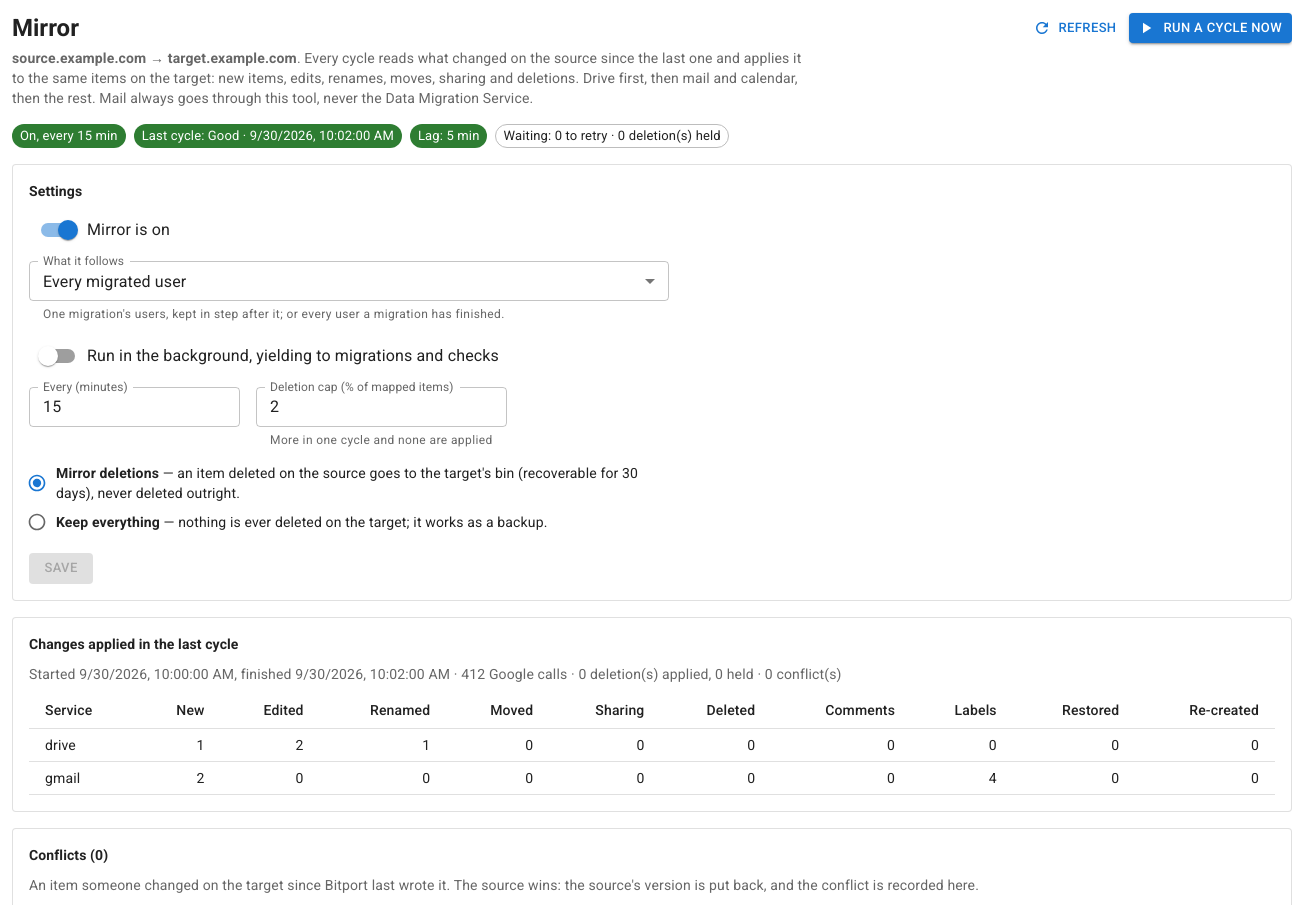
settings › refuses an interval under the minimum before anything is sent
The image size is (1304, 905).
Replace the text in the number field with test id "mirror-interval" with "4" at (134, 407), box 29,387 -> 240,427
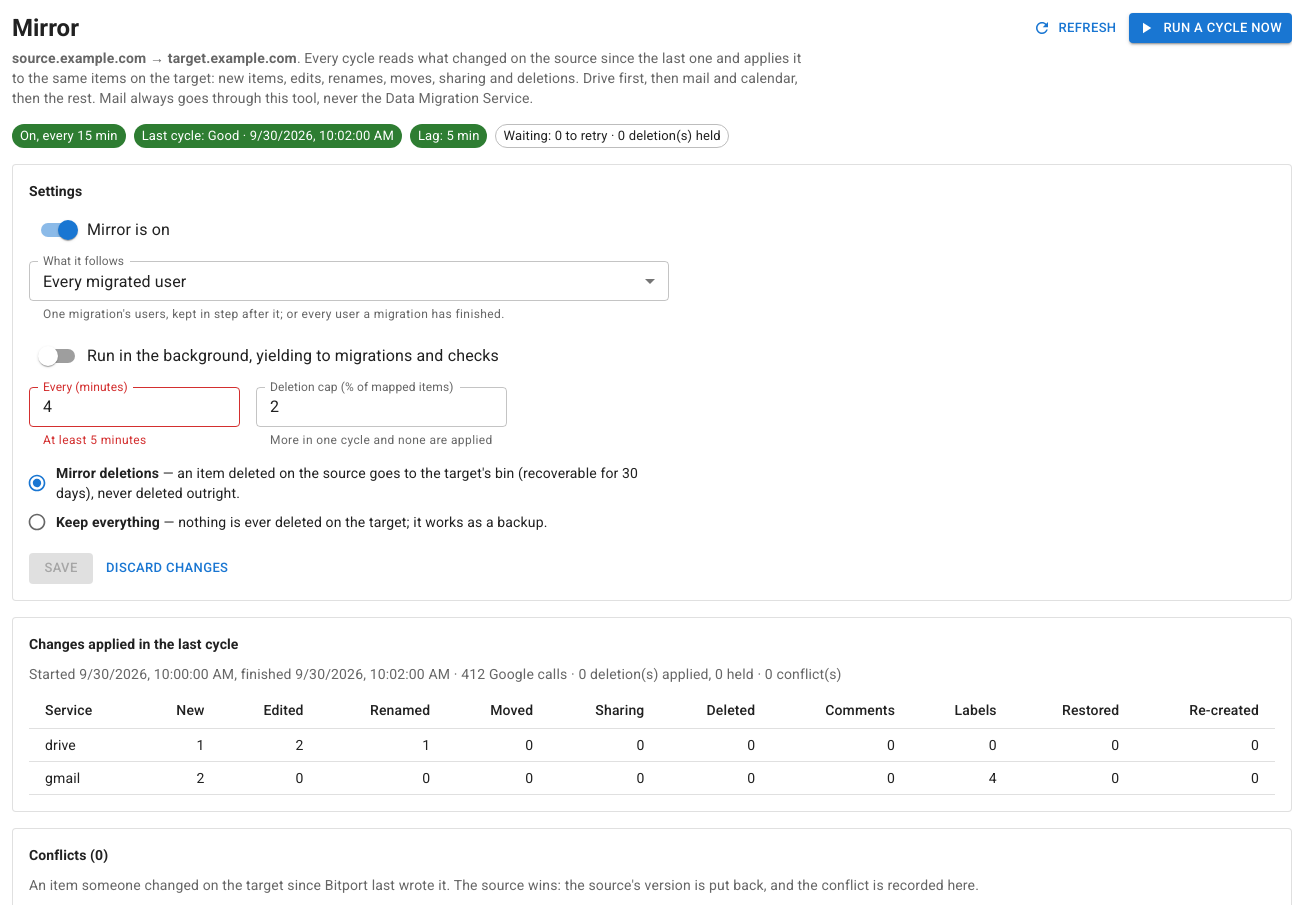
Expected: the button with test id "mirror-save" is disabled, 29,553 -> 93,584
Expected: the text "At least 5 minutes" is shown, 43,433 -> 147,447
